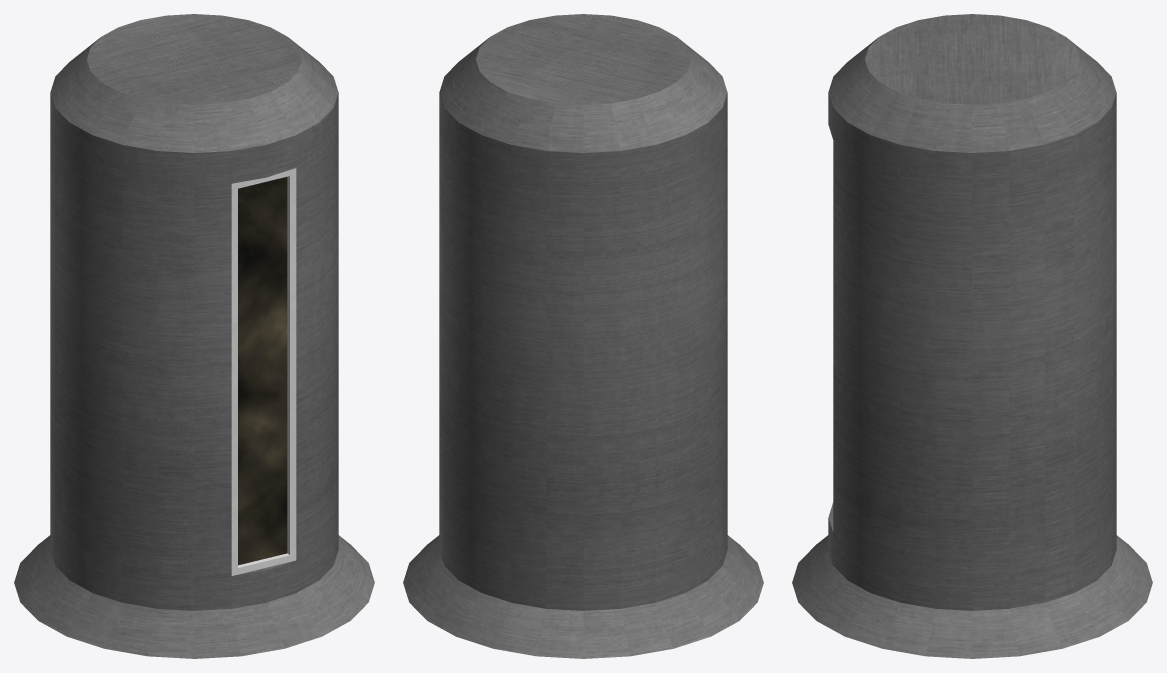
File: Huge Battery.obj
The picture shows the model from 3 angles, left to right: view 1: azimuth 30°, elevation 25°; view 2: azimuth 150°, elevation 25°; view 3: azimuth 270°, elevation 25°; orthographic projection.
Visible parts, largest first — view 1: Mesh1_Group1_Model; view 2: Mesh1_Group1_Model; view 3: Mesh1_Group1_Model.
Part boxes in pixels (bbox=[...]): Mesh1_Group1_Model: bbox=[14, 14, 374, 658]; Mesh1_Group1_Model: bbox=[403, 14, 763, 658]; Mesh1_Group1_Model: bbox=[792, 14, 1152, 658].
Bounding box in the file's own units: 1 × 1.6 × 1.
3 materials, 3 textured.
